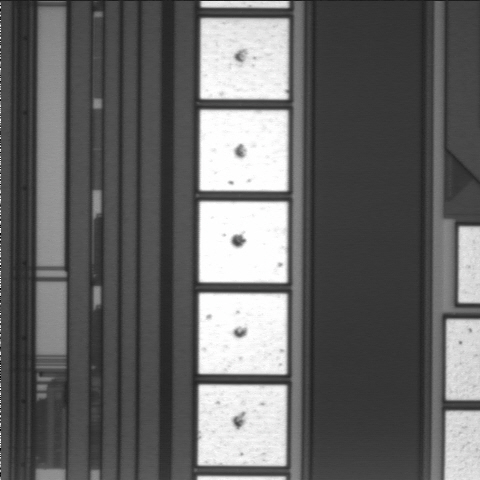pad: (200, 18, 289, 100), (199, 201, 288, 283), (199, 110, 288, 191), (198, 385, 287, 466), (199, 293, 287, 374)
